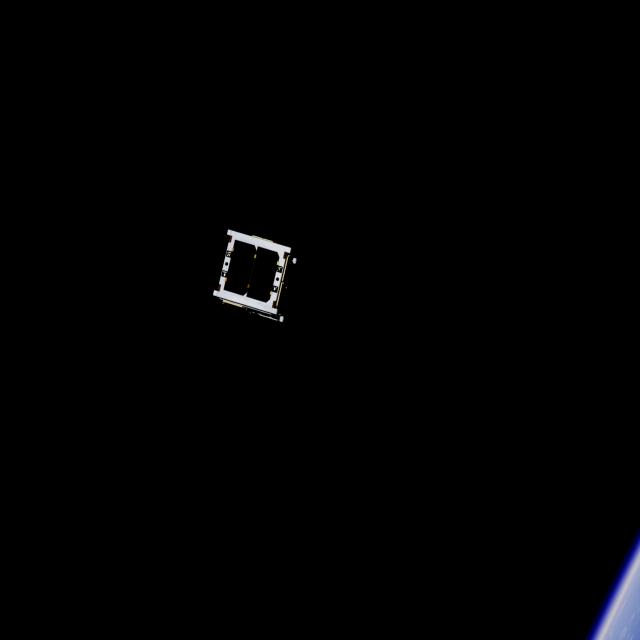satellite: (209, 231, 305, 327)
